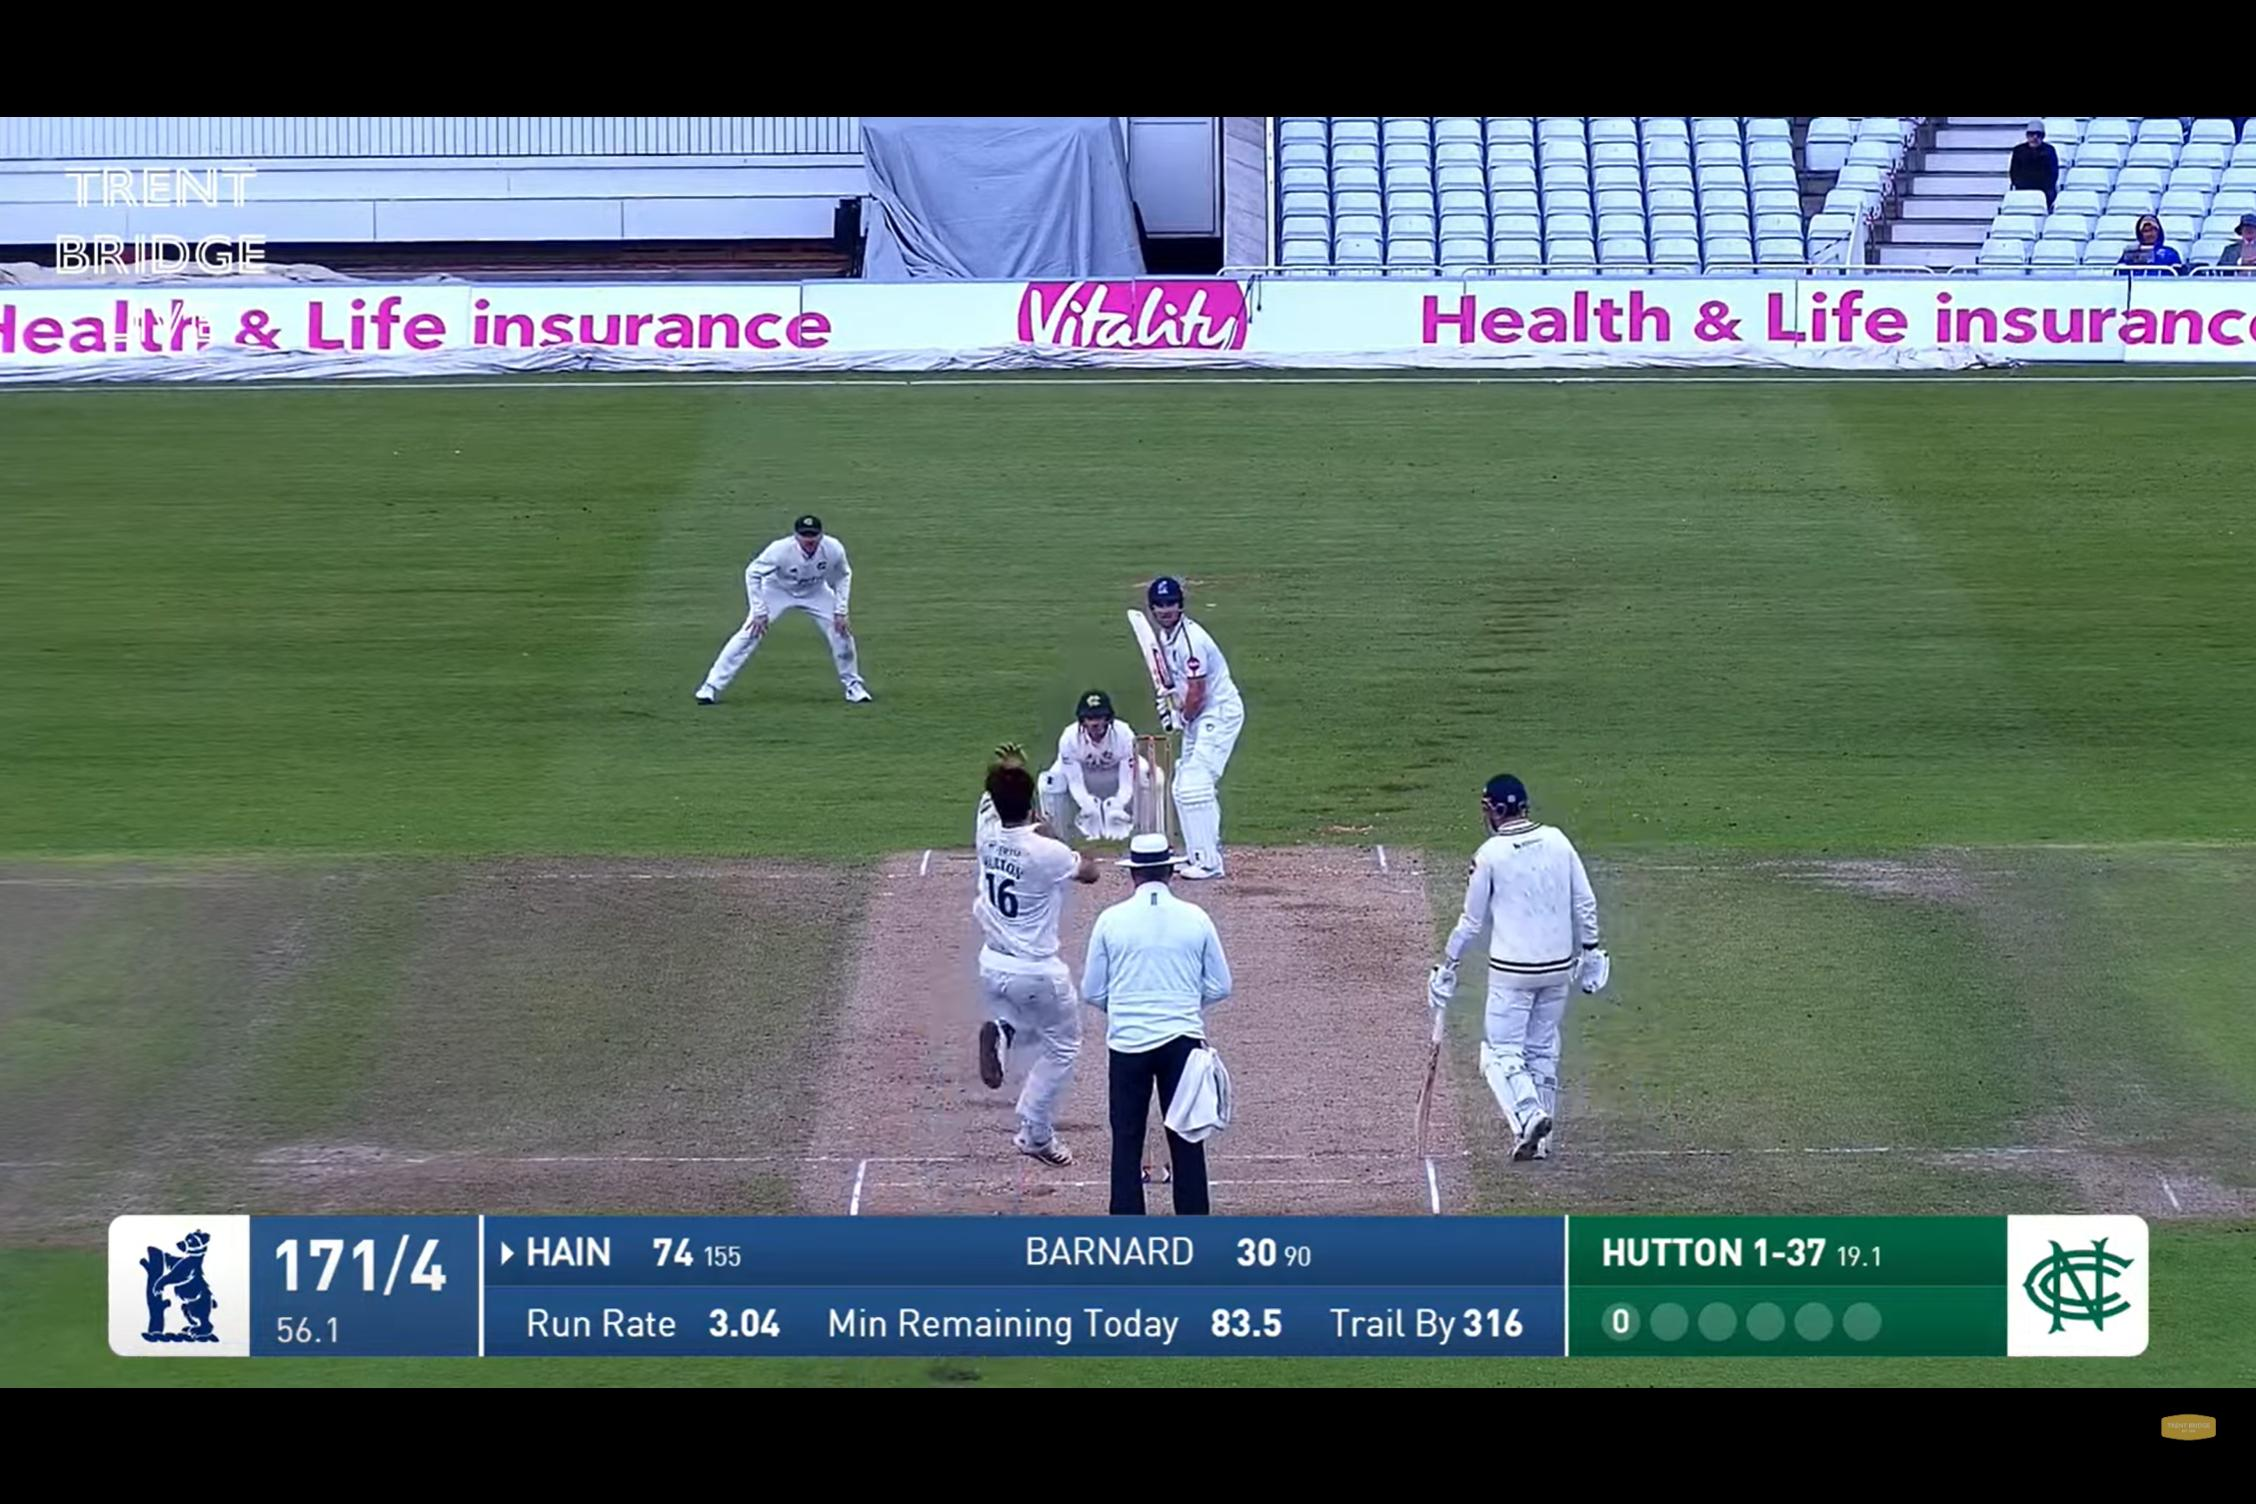batsman: (1104, 567, 1251, 839)
bowler running in: (953, 735, 1104, 1173)
non striker: (1390, 745, 1621, 1192)
umpire: (1078, 856, 1244, 1215)
